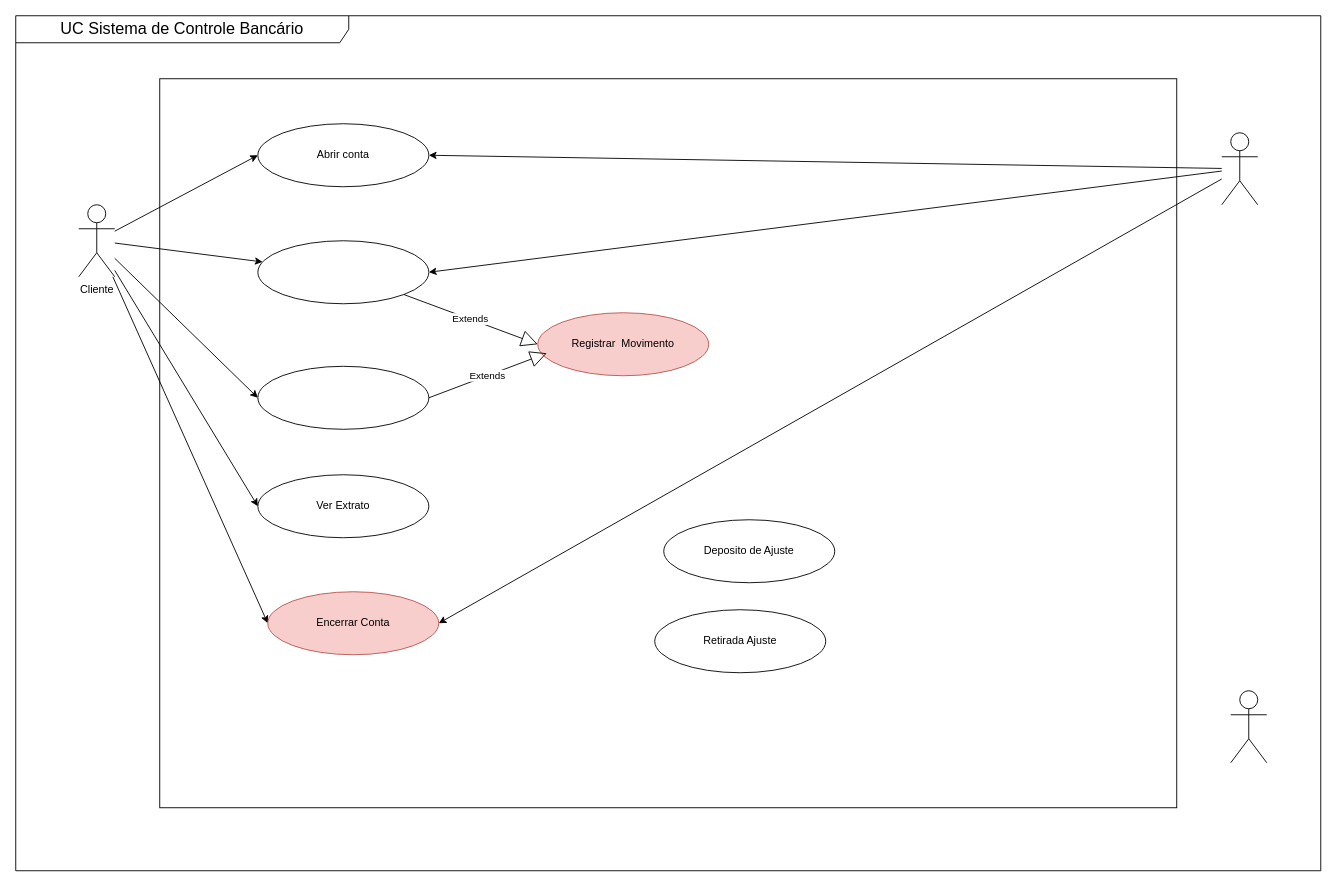
Image size: 1337x887. Some labels were removed from this diagram. Here are the shapes that lost their labels. From the top down, the box of each, then its label:
(1221, 132, 1258, 205): Funcionario 01
(257, 240, 429, 304): Realizar Deposito
(257, 365, 429, 429): Realizar Saque
(1230, 690, 1267, 763): Funcionario 02
